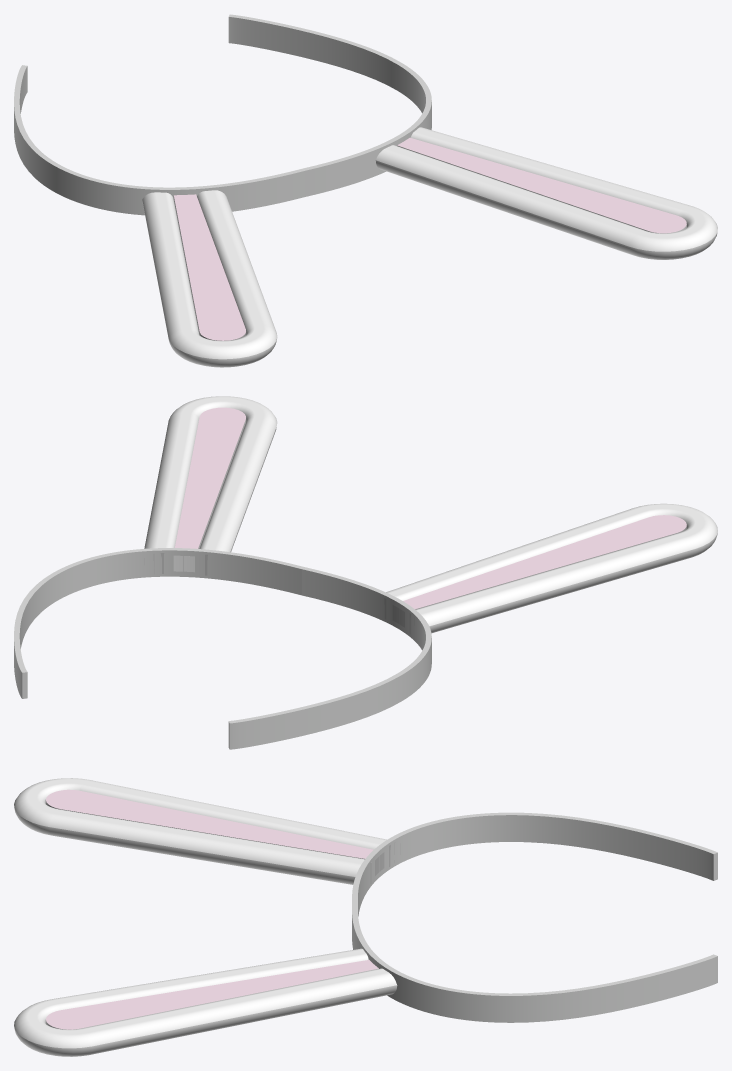
The model's file is BunnyEars.glb.
3 views of the same model, one above another, from view 1: azimuth 30°, elevation 25°; view 2: azimuth 150°, elevation 25°; view 3: azimuth 270°, elevation 25° (orthographic). The views are drawn at different scales.
Size of the model in its own units: 27.05 by 1.27 by 30.18.
